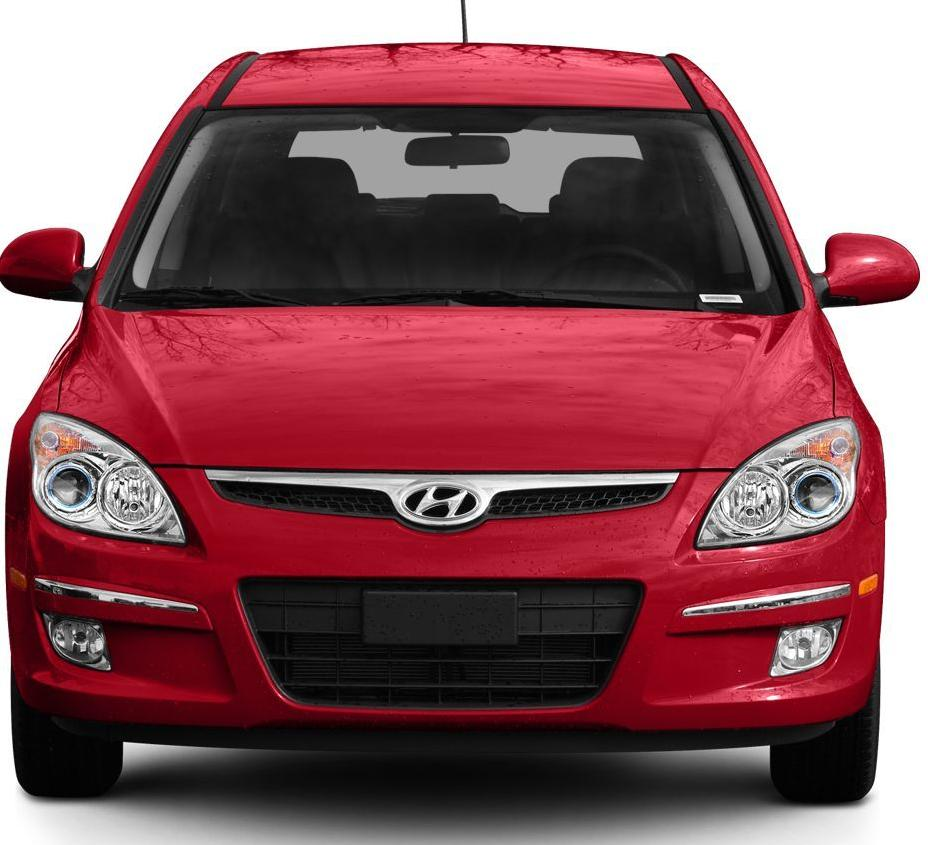front_view: (15, 388, 877, 738)
headlight: (28, 399, 191, 553)
